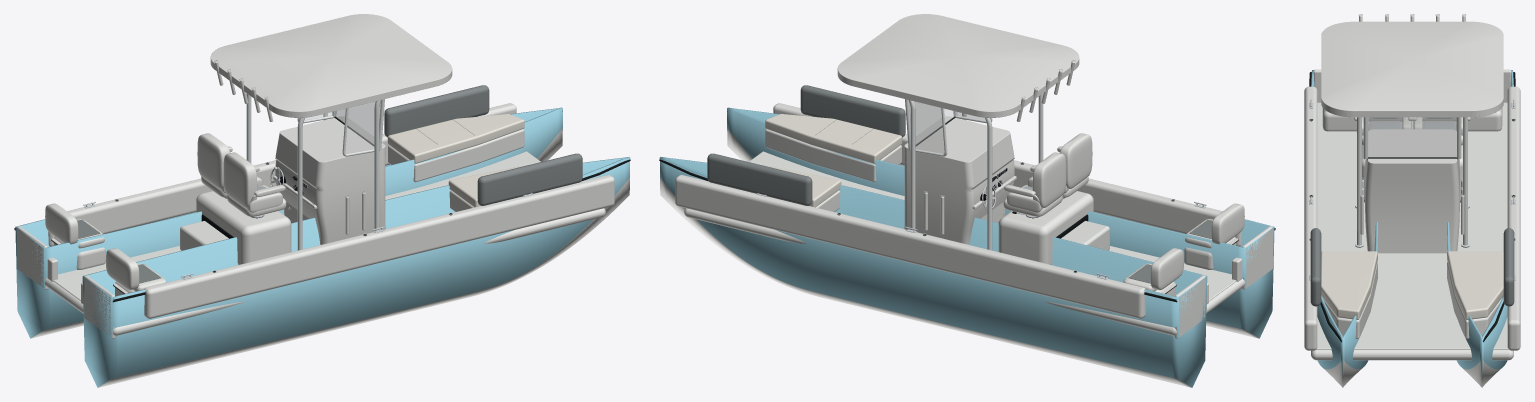
The model's file is Boat_power-cat.glb.
The picture shows the model from 3 angles, left to right: view 1: azimuth 30°, elevation 25°; view 2: azimuth 150°, elevation 25°; view 3: azimuth 270°, elevation 25°; orthographic projection. The views are drawn at different scales.
Visible parts, largest first — view 1: Fleet | independent catamaran hull -1, Reference | sculpted fiberglass hardtop.002, Fleet | cat molded inner gunwale, Fleet | independent catamaran hull 1, Reference | contoured fiberglass console.005, Fleet | cat molded inner gunwale.001, Reference | gray/white cat bow cushion.001, Reference | cat leaning post molded station, Reference | cat bow inner bolster, Reference | cat bow inner bolster.001, Reference | contoured cat bow seating base.001, Fleet | bridging deck and tunnel (+14 smaller); view 2: Fleet | independent catamaran hull 1, Reference | sculpted fiberglass hardtop.002, Fleet | cat molded inner gunwale.001, Fleet | independent catamaran hull -1, Reference | contoured fiberglass console.005, Fleet | cat molded inner gunwale, Reference | gray/white cat bow cushion, Reference | cat leaning post molded station, Reference | cat bow inner bolster.001, Reference | cat bow inner bolster, Reference | contoured cat bow seating base, Fleet | bridging deck and tunnel (+14 smaller); view 3: Fleet | nonskid bridge deck, Reference | sculpted fiberglass hardtop.002, Reference | contoured fiberglass console.005, V59 | integrated full-height hardtop windshield.001, Reference | gray/white cat bow cushion, Reference | gray/white cat bow cushion.001, Fleet | cat molded inner gunwale, Fleet | cat molded inner gunwale.001, Fleet | independent catamaran hull -1, Fleet | independent catamaran hull 1, Fleet | bridging deck and tunnel, Reference | cat bow inner bolster (+14 smaller).
Part boxes in pixels (x1,y1,x2,y2): Fleet | independent catamaran hull -1: (82, 157, 630, 387); Reference | sculpted fiberglass hardtop.002: (210, 14, 452, 117); Fleet | cat molded inner gunwale: (144, 175, 614, 318); Fleet | independent catamaran hull 1: (15, 107, 562, 338); Reference | contoured fiberglass console.005: (275, 116, 385, 244); Fleet | cat molded inner gunwale.001: (48, 103, 516, 246); Reference | gray/white cat bow cushion.001: (387, 114, 524, 163); Reference | cat leaning post molded station: (196, 191, 291, 264); Reference | cat bow inner bolster: (477, 153, 582, 205); Reference | cat bow inner bolster.001: (384, 85, 489, 137); Reference | contoured cat bow seating base.001: (388, 129, 524, 182); Fleet | bridging deck and tunnel: (45, 208, 605, 335); Fleet | independent catamaran hull 1: (659, 157, 1207, 387); Reference | sculpted fiberglass hardtop.002: (837, 14, 1079, 117); Fleet | cat molded inner gunwale.001: (675, 175, 1145, 318); Fleet | independent catamaran hull -1: (727, 107, 1274, 338); Reference | contoured fiberglass console.005: (904, 116, 1014, 244); Fleet | cat molded inner gunwale: (773, 103, 1241, 246); Reference | gray/white cat bow cushion: (765, 114, 902, 163); Reference | cat leaning post molded station: (998, 191, 1093, 264); Reference | cat bow inner bolster.001: (707, 153, 812, 205); Reference | cat bow inner bolster: (800, 85, 905, 137); Reference | contoured cat bow seating base: (765, 129, 901, 182); Fleet | bridging deck and tunnel: (684, 208, 1244, 335); Fleet | nonskid bridge deck: (1316, 102, 1508, 349); Reference | sculpted fiberglass hardtop.002: (1321, 21, 1503, 117); Reference | contoured fiberglass console.005: (1365, 129, 1459, 253); V59 | integrated full-height hardtop windshield.001: (1368, 117, 1456, 156); Reference | gray/white cat bow cushion: (1321, 251, 1377, 319); Reference | gray/white cat bow cushion.001: (1447, 251, 1503, 319); Fleet | cat molded inner gunwale: (1304, 86, 1317, 350); Fleet | cat molded inner gunwale.001: (1507, 86, 1520, 350); Fleet | independent catamaran hull -1: (1311, 70, 1377, 387); Fleet | independent catamaran hull 1: (1447, 70, 1513, 387); Fleet | bridging deck and tunnel: (1311, 349, 1513, 360); Reference | cat bow inner bolster: (1310, 228, 1321, 306).
Size of the model in its own units: 7.77 by 3.36 by 2.64.
